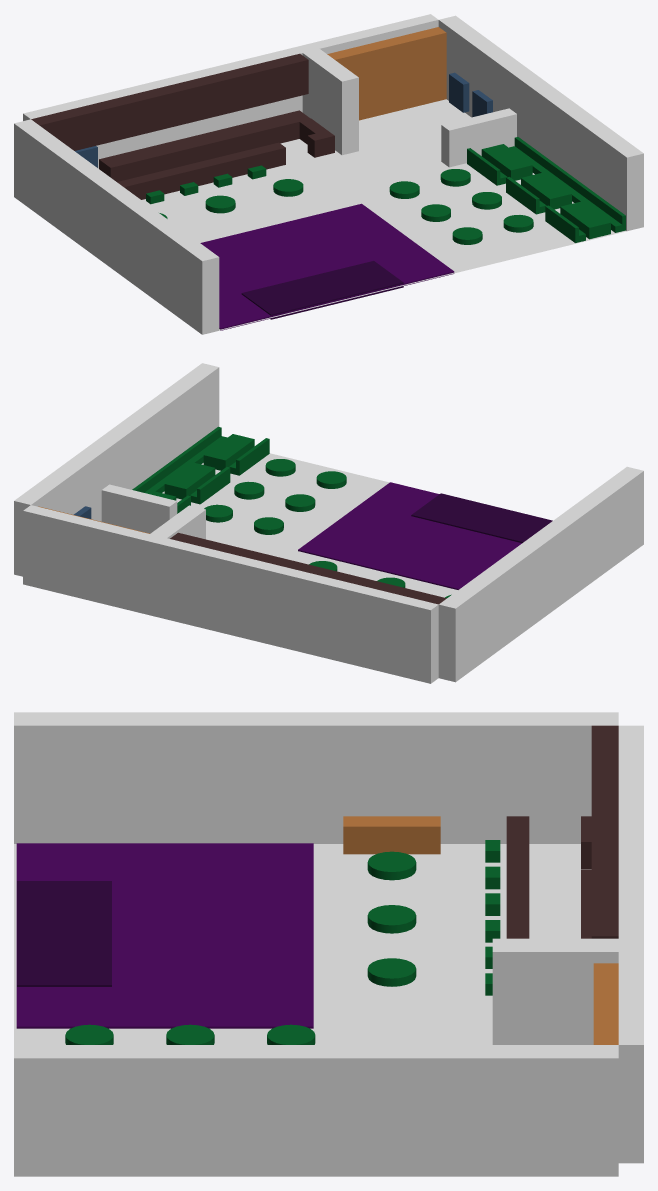
3 views of the same model, one above another, from view 1: azimuth 30°, elevation 25°; view 2: azimuth 150°, elevation 25°; view 3: azimuth 270°, elevation 25° (orthographic). The views are drawn at different scales.
Visible parts, largest first — view 1: pPlane1, pPlane3, pPlane5, pCube11, pCube3, pPlane4, pCube32, pCube9, pCube12, pCube10, pCube2, pCube31 (+18 smaller); view 2: pPlane4, pPlane3, pPlane5, pCube11, pPlane1, pCube12, pCube31, pCube3, pCube10, pCube37, pCube38, pCube35 (+8 smaller); view 3: pPlane5, pPlane3, pCube11, pPlane1, pCube10, pPlane4, pCube12, pCube3, pCube34, pCube2, pCube32, pCylinder15 (+6 smaller).
Part boxes in pixels (bbox=[...]): pPlane1: bbox=[141, 99, 626, 330]; pPlane3: bbox=[14, 119, 219, 334]; pPlane5: bbox=[438, 15, 643, 231]; pCube11: bbox=[200, 203, 454, 330]; pCube3: bbox=[31, 53, 308, 150]; pPlane4: bbox=[23, 14, 438, 168]; pCube32: bbox=[327, 27, 446, 120]; pCube9: bbox=[99, 110, 309, 181]; pCube12: bbox=[241, 261, 403, 319]; pCube10: bbox=[302, 49, 358, 155]; pCube2: bbox=[117, 142, 285, 199]; pCube31: bbox=[441, 108, 516, 167]; pPlane4: bbox=[23, 505, 438, 683]; pPlane3: bbox=[438, 466, 643, 682]; pPlane5: bbox=[14, 363, 219, 576]; pCube11: bbox=[298, 482, 521, 589]; pPlane1: bbox=[162, 453, 457, 597]; pCube12: bbox=[411, 493, 552, 543]; pCube31: bbox=[101, 484, 177, 533]; pCube3: bbox=[170, 532, 446, 604]; pCube10: bbox=[150, 505, 205, 539]; pCube37: bbox=[164, 462, 215, 499]; pCube38: bbox=[203, 434, 254, 470]; pCube35: bbox=[132, 426, 221, 492]; pPlane5: bbox=[14, 1045, 618, 1176]; pPlane3: bbox=[14, 712, 618, 843]; pCube11: bbox=[16, 843, 313, 1028]; pPlane1: bbox=[14, 844, 591, 1044]; pCube10: bbox=[492, 938, 618, 1044]; pPlane4: bbox=[618, 725, 643, 1163]; pCube12: bbox=[17, 881, 111, 986]; pCube3: bbox=[591, 725, 618, 938]; pCube34: bbox=[343, 816, 440, 854]; pCube2: bbox=[506, 816, 529, 938]; pCube32: bbox=[593, 963, 618, 1044]; pCylinder15: bbox=[367, 958, 416, 986].
Bounding box in the file's own units: 542 × 94.82 × 417.
